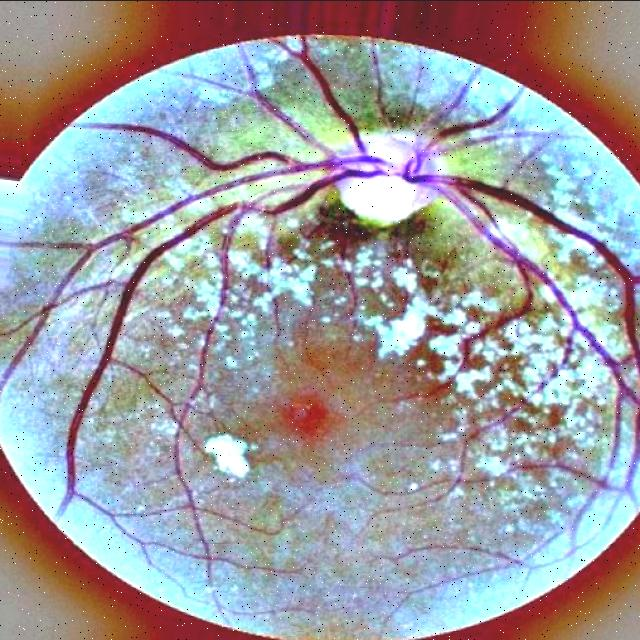Macula: (280, 388, 344, 439)
Nerves: (0, 37, 640, 580), (483, 226, 640, 459), (587, 407, 640, 490)
Optic Disk: (333, 132, 442, 224)
